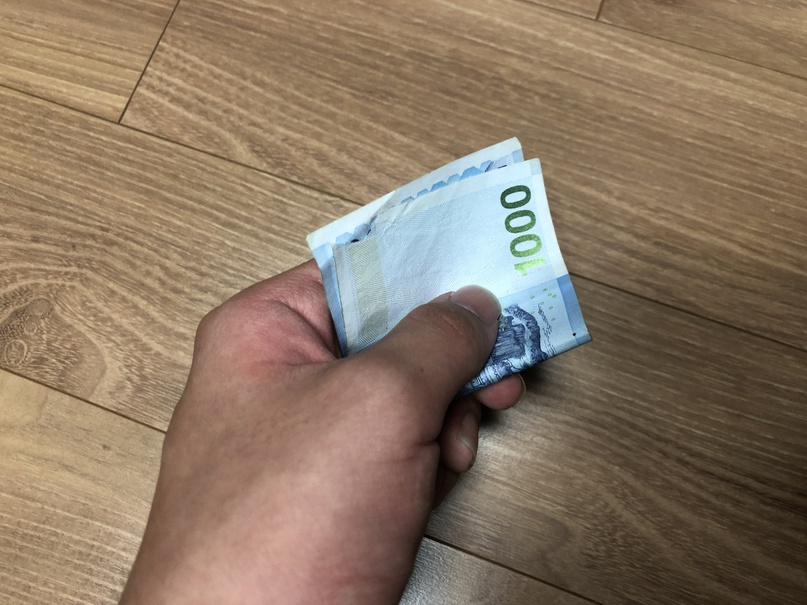1000won: (306, 138, 591, 390)
